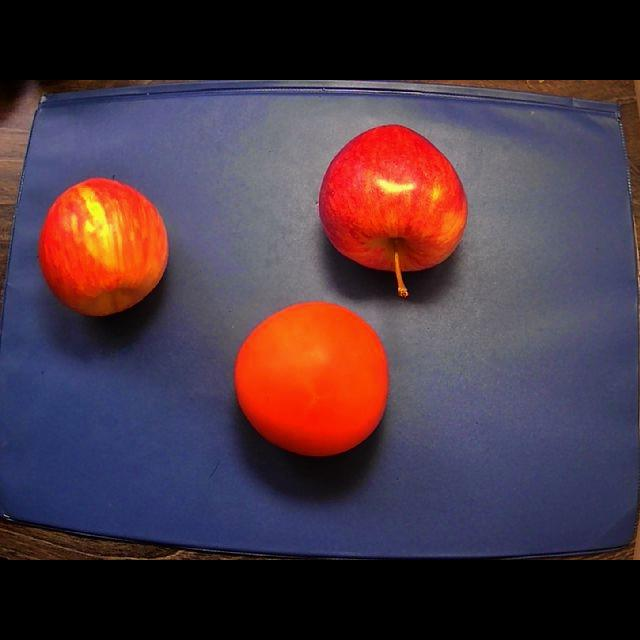manzana: (320, 125, 467, 297), (39, 178, 168, 315)
tomate: (235, 303, 388, 456)
